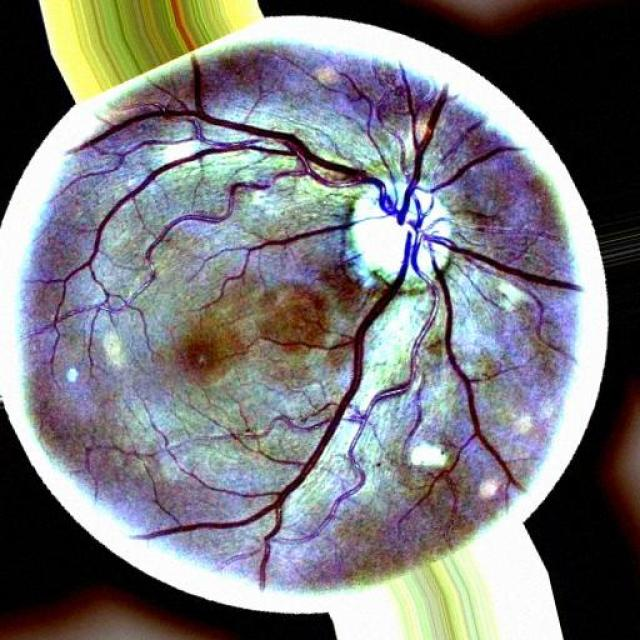Macula: (181, 334, 231, 384)
Nerves: (59, 58, 579, 586), (202, 216, 379, 298)
Optic Disk: (345, 188, 450, 289)
